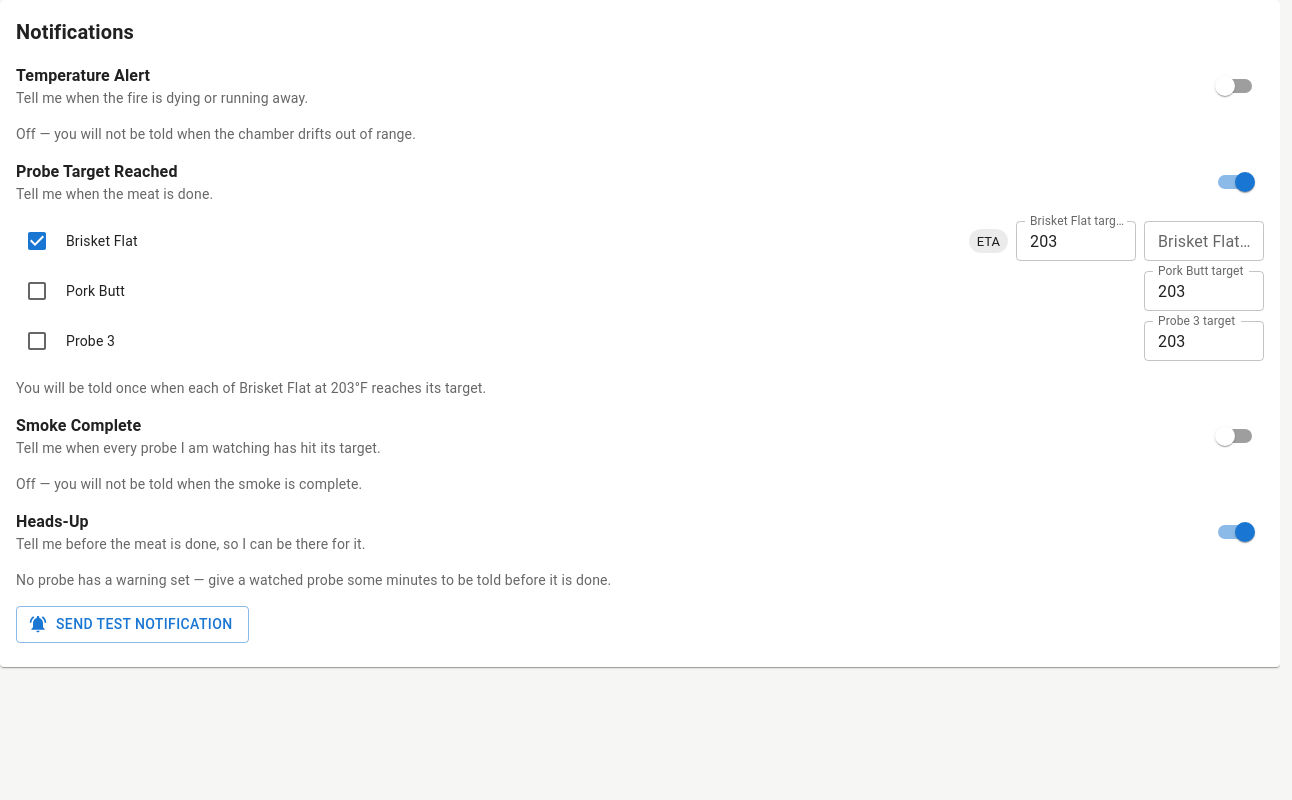
Test: NotificationsCard › the heads-up alert › asks for minutes only on the rows being watched
The width and height of the screenshot is (1292, 800).
Check: the field labelled "Brisket Flat heads-up minutes" is shown, box [1144,221,1264,261]
Click the checkbox named "Watch Brisket Flat" at (37, 241), box [25,229,49,253]
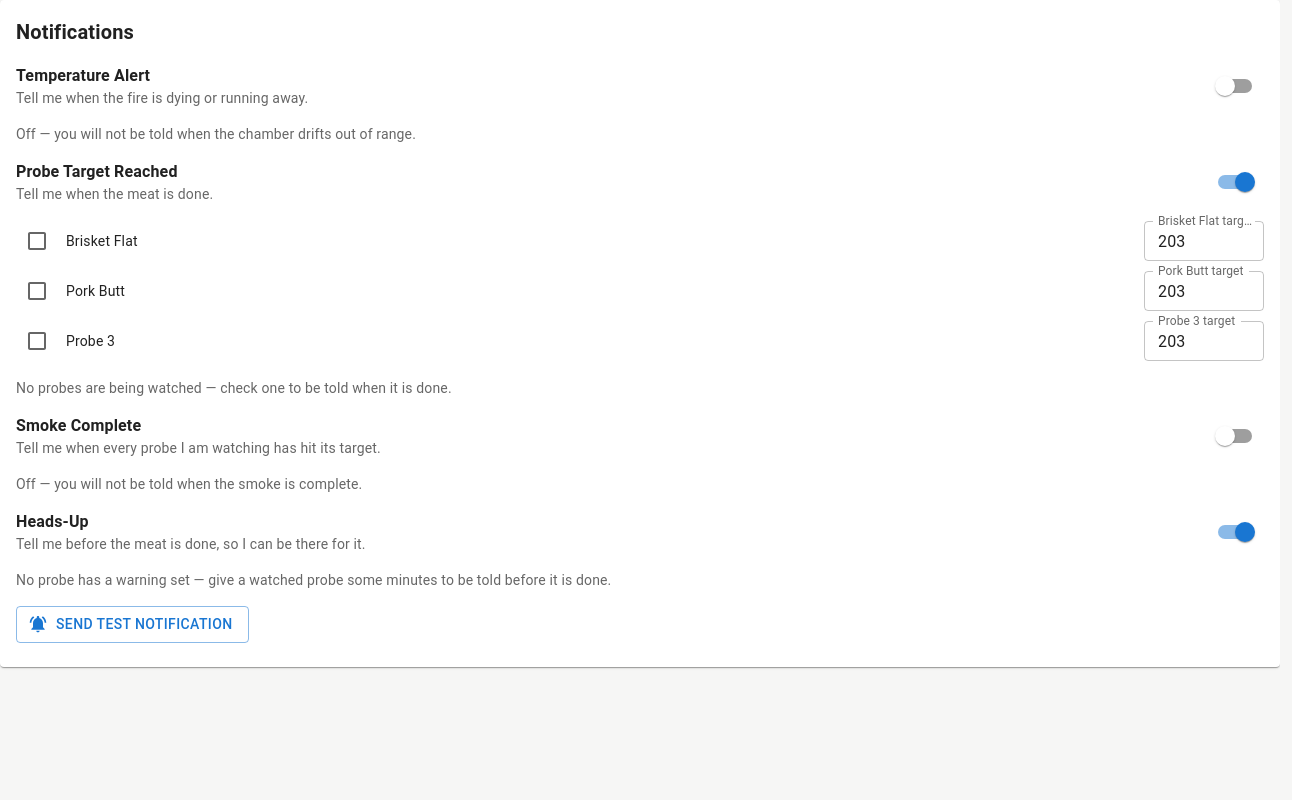
Check: the label labelled "Brisket Flat heads-up minutes" is gone
